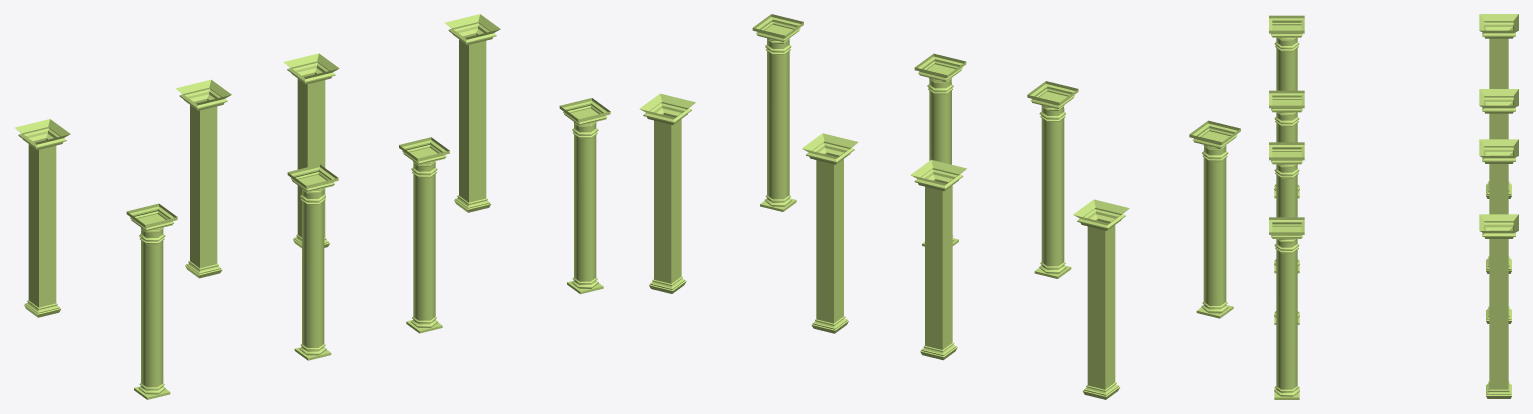
The model's file is Empty_Denzel_Pillars.fbx.
3 renders of one model, left to right at view 1: azimuth 30°, elevation 25°; view 2: azimuth 150°, elevation 25°; view 3: azimuth 270°, elevation 25°, orthographic. The views are drawn at different scales.
Parts seen in each view (by area): view 1: geo_Pillar_Square_J.001, geo_Pillar_Square_J1.001, geo_Pillar_Square_J, pCylinder85.001, pCylinder84.001, pCylinder84, pCylinder85, geo_Pillar_Square_J1; view 2: geo_Pillar_Square_J.001, geo_Pillar_Square_J1.001, geo_Pillar_Square_J1, geo_Pillar_Square_J, pCylinder84.001, pCylinder85.001, pCylinder84, pCylinder85; view 3: pCylinder84, geo_Pillar_Square_J, geo_Pillar_Square_J1, geo_Pillar_Square_J.001, pCylinder84.001, pCylinder85, geo_Pillar_Square_J1.001, pCylinder85.001.
Part boxes in pixels (x1=…): geo_Pillar_Square_J.001: x1=14, y1=119, x2=70, y2=317; geo_Pillar_Square_J1.001: x1=176, y1=79, x2=231, y2=278; geo_Pillar_Square_J: x1=444, y1=14, x2=500, y2=212; pCylinder85.001: x1=287, y1=164, x2=338, y2=360; pCylinder84.001: x1=126, y1=203, x2=177, y2=399; pCylinder84: x1=559, y1=98, x2=610, y2=294; pCylinder85: x1=399, y1=137, x2=449, y2=333; geo_Pillar_Square_J1: x1=283, y1=53, x2=339, y2=248; geo_Pillar_Square_J.001: x1=1073, y1=199, x2=1129, y2=399; geo_Pillar_Square_J1.001: x1=911, y1=159, x2=967, y2=360; geo_Pillar_Square_J1: x1=802, y1=133, x2=858, y2=333; geo_Pillar_Square_J: x1=639, y1=93, x2=695, y2=293; pCylinder84.001: x1=1189, y1=120, x2=1240, y2=318; pCylinder85.001: x1=1027, y1=81, x2=1078, y2=278; pCylinder84: x1=752, y1=14, x2=803, y2=211; pCylinder85: x1=914, y1=53, x2=966, y2=246; pCylinder84: x1=1269, y1=217, x2=1304, y2=399; geo_Pillar_Square_J: x1=1479, y1=214, x2=1518, y2=398; geo_Pillar_Square_J1: x1=1479, y1=139, x2=1518, y2=323; geo_Pillar_Square_J.001: x1=1479, y1=14, x2=1518, y2=198; pCylinder84.001: x1=1269, y1=15, x2=1304, y2=198; pCylinder85: x1=1269, y1=142, x2=1304, y2=324; geo_Pillar_Square_J1.001: x1=1479, y1=89, x2=1518, y2=273; pCylinder85.001: x1=1269, y1=90, x2=1304, y2=273.
Bounding box in the file's own units: 3.18 × 1.17 × 1.55.
